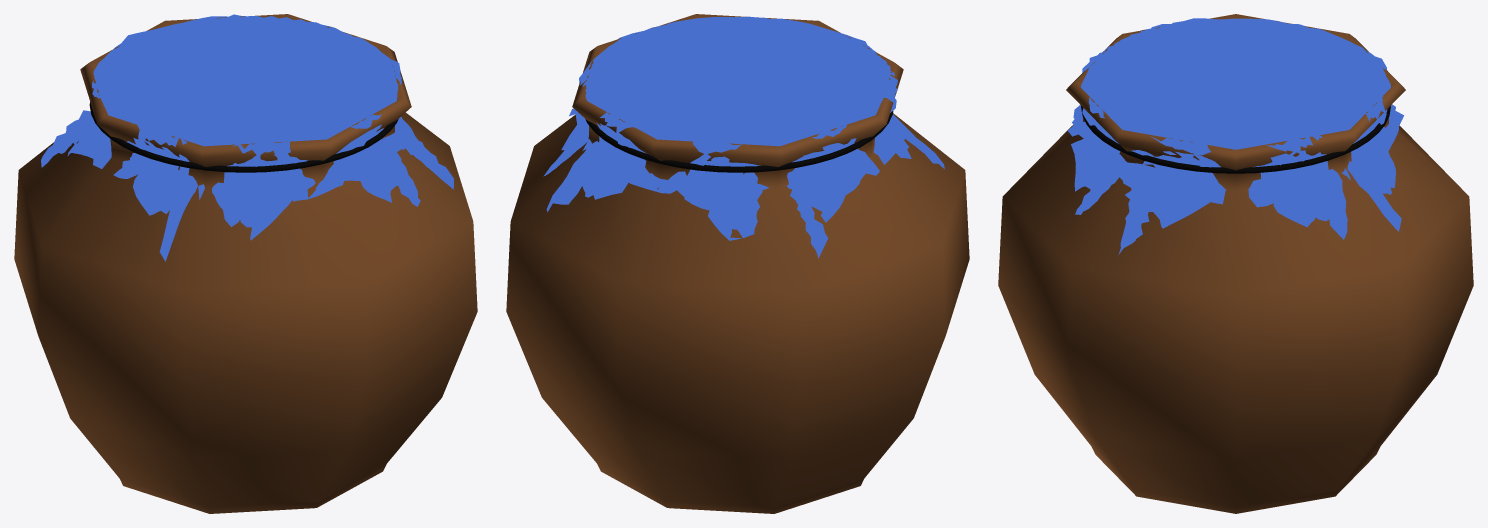
Rendered from honey.glb.
The picture shows the model from 3 angles, left to right: view 1: azimuth 30°, elevation 25°; view 2: azimuth 150°, elevation 25°; view 3: azimuth 270°, elevation 25°; orthographic projection.
Parts seen in each view (by area): view 1: HoneyPot, HoneyCloth, Band; view 2: HoneyPot, HoneyCloth, Band; view 3: HoneyPot, HoneyCloth, Band.
Boxes of the visible parts, x1,y1,x2,y2 form: HoneyPot: (14,14,477,513); HoneyCloth: (41,14,453,261); Band: (89,102,398,172); HoneyPot: (506,14,969,513); HoneyCloth: (543,16,944,258); Band: (585,111,893,172); HoneyPot: (998,14,1473,513); HoneyCloth: (1068,18,1403,254); Band: (1081,106,1390,173).
Bounding box in the file's own units: 3.3 × 2.9 × 3.3.
